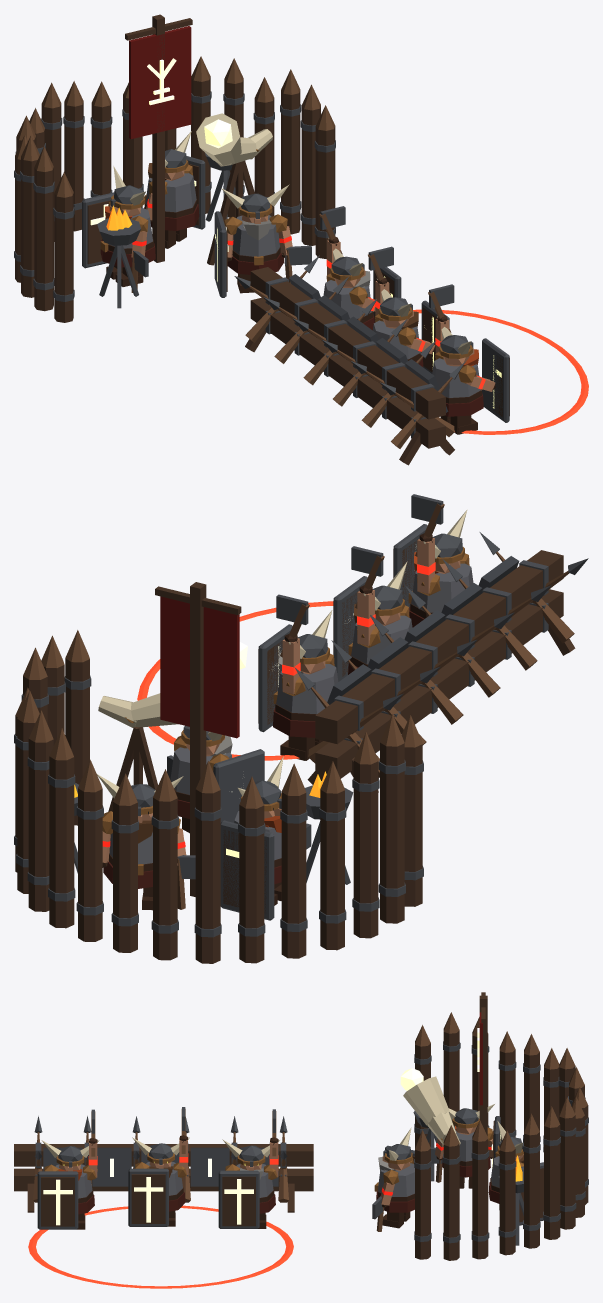
The model's file is berserker_camp_ironwall.glb.
The picture shows the model from 3 angles, top to bottom: view 1: azimuth 30°, elevation 25°; view 2: azimuth 150°, elevation 25°; view 3: azimuth 270°, elevation 25°; orthographic projection. The views are drawn at different scales.
Visible parts, largest first — view 1: Banner, Barricade_Log1, Barricade_Log0, Palisade_15, Palisade_2, Palisade_16, BannerPole, Palisade_0, Palisade_1, Palisade_9, Berserker_F0_TowerShield, Palisade_14 (+21 smaller); view 2: Barricade_Log1, Banner, Barricade_Log0, Palisade_14, Palisade_15, Palisade_10, Palisade_6, Palisade_12, Palisade_11, Palisade_9, Palisade_13, BannerPole (+39 smaller); view 3: Barricade_Log1, Palisade_2, RageAura, Palisade_1, Palisade_5, Palisade_4, Palisade_6, Palisade_3, Palisade_0, Barricade_Log0, Berserker_F1_TowerShieldWood, Berserker_F2_TowerShieldWood (+17 smaller).
Boxes of the visible parts, x1=… form: Banner: x1=129, y1=26, x2=191, y2=139; Barricade_Log1: x1=250, y1=267, x2=445, y2=419; Barricade_Log0: x1=250, y1=297, x2=445, y2=448; Palisade_15: x1=34, y1=167, x2=53, y2=311; Palisade_2: x1=281, y1=90, x2=300, y2=234; Palisade_16: x1=54, y1=193, x2=73, y2=322; BannerPole: x1=152, y1=14, x2=164, y2=262; Palisade_0: x1=315, y1=126, x2=335, y2=259; Palisade_1: x1=301, y1=106, x2=320, y2=245; Palisade_9: x1=64, y1=102, x2=83, y2=231; Berserker_F0_TowerShield: x1=482, y1=338, x2=509, y2=422; Palisade_14: x1=21, y1=157, x2=37, y2=297; Barricade_Log1: x1=315, y1=550, x2=563, y2=744; Banner: x1=160, y1=596, x2=239, y2=738; Barricade_Log0: x1=315, y1=589, x2=563, y2=778; Palisade_14: x1=353, y1=760, x2=378, y2=938; Palisade_15: x1=380, y1=742, x2=404, y2=923; Palisade_10: x1=195, y1=789, x2=220, y2=963; Palisade_6: x1=49, y1=756, x2=74, y2=928; Palisade_12: x1=281, y1=792, x2=306, y2=958; Palisade_11: x1=239, y1=805, x2=264, y2=963; Palisade_9: x1=153, y1=798, x2=177, y2=960; Palisade_13: x1=320, y1=789, x2=344, y2=950; BannerPole: x1=190, y1=582, x2=206, y2=896; Barricade_Log1: x1=14, y1=1144, x2=313, y2=1166; Palisade_2: x1=472, y1=1139, x2=488, y2=1259; RageAura: x1=28, y1=1205, x2=293, y2=1288; Palisade_1: x1=443, y1=1143, x2=459, y2=1260; Palisade_5: x1=544, y1=1125, x2=560, y2=1239; Palisade_4: x1=524, y1=1132, x2=539, y2=1248; Palisade_6: x1=559, y1=1115, x2=575, y2=1229; Palisade_3: x1=499, y1=1149, x2=515, y2=1255; Palisade_0: x1=415, y1=1148, x2=430, y2=1259; Barricade_Log0: x1=14, y1=1168, x2=313, y2=1191; Berserker_F1_TowerShieldWood: x1=131, y1=1174, x2=165, y2=1223; Berserker_F2_TowerShieldWood: x1=222, y1=1176, x2=255, y2=1226.
Size of the model in its own units: 3.06 by 2.02 by 5.08.
